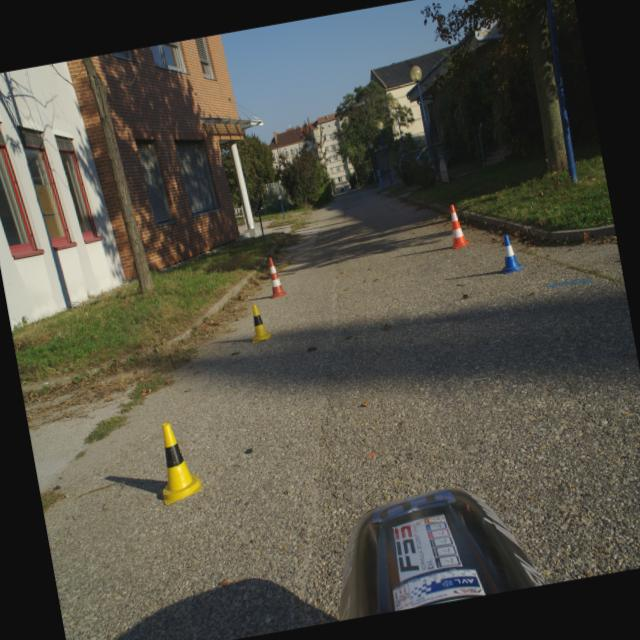blue_cone: (494, 232, 524, 274)
large_orange_cone: (444, 202, 471, 248), (264, 255, 288, 298)
yellow_cone: (150, 418, 203, 505), (245, 302, 272, 342)
